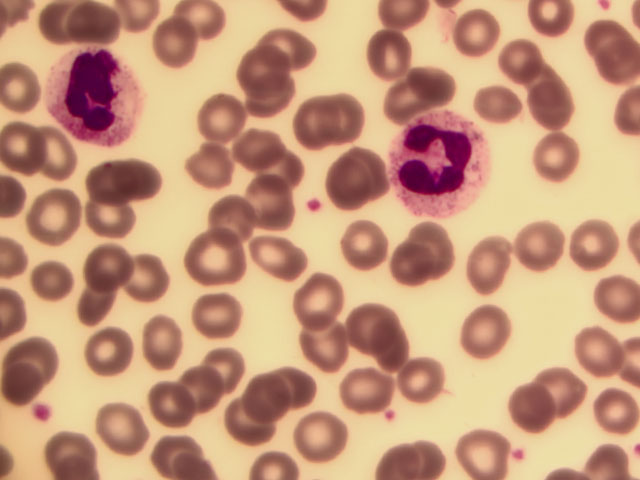Platelets: (27, 402, 55, 427), (306, 198, 322, 212), (594, 1, 614, 12), (629, 443, 640, 457), (386, 409, 398, 421), (514, 450, 525, 463)
RBC: (116, 154, 176, 215), (76, 158, 136, 219), (28, 120, 88, 181), (3, 120, 63, 181), (21, 181, 81, 242), (78, 197, 138, 258), (78, 241, 138, 302), (56, 275, 116, 336), (26, 255, 86, 316), (117, 249, 177, 310), (137, 311, 185, 373), (90, 317, 138, 379), (11, 330, 59, 392), (98, 395, 146, 457), (48, 418, 96, 480), (143, 376, 191, 438), (183, 360, 231, 422), (203, 336, 251, 398), (195, 285, 243, 347), (190, 236, 238, 298), (210, 187, 258, 249), (240, 174, 288, 236), (261, 140, 309, 202), (236, 124, 284, 186), (180, 137, 228, 199), (190, 87, 238, 149), (148, 15, 196, 77), (174, 1, 222, 62), (289, 269, 345, 316), (376, 242, 432, 289), (402, 222, 458, 269), (458, 234, 514, 281), (514, 222, 570, 269), (529, 131, 585, 178), (471, 79, 527, 126), (413, 63, 469, 110), (380, 80, 436, 127), (363, 27, 419, 74), (452, 9, 508, 56), (494, 39, 550, 86), (521, 79, 577, 126), (565, 222, 621, 269), (461, 311, 517, 358), (400, 363, 456, 410), (347, 365, 403, 412), (370, 324, 426, 371), (344, 300, 400, 347), (297, 323, 353, 370), (277, 361, 333, 408), (240, 371, 296, 418), (225, 396, 281, 443), (297, 414, 353, 461), (369, 433, 425, 480), (458, 433, 514, 480), (505, 383, 561, 430), (527, 369, 583, 416), (571, 326, 627, 373), (584, 280, 640, 327), (584, 381, 640, 428), (584, 18, 640, 65), (69, 2, 121, 45), (31, 2, 83, 45), (236, 43, 288, 86), (260, 25, 312, 68), (245, 81, 297, 124), (295, 102, 347, 145), (312, 89, 364, 132), (327, 163, 379, 206), (336, 144, 388, 187), (342, 224, 394, 267), (251, 233, 303, 276)
WBC: (38, 41, 150, 147), (382, 114, 491, 216)
